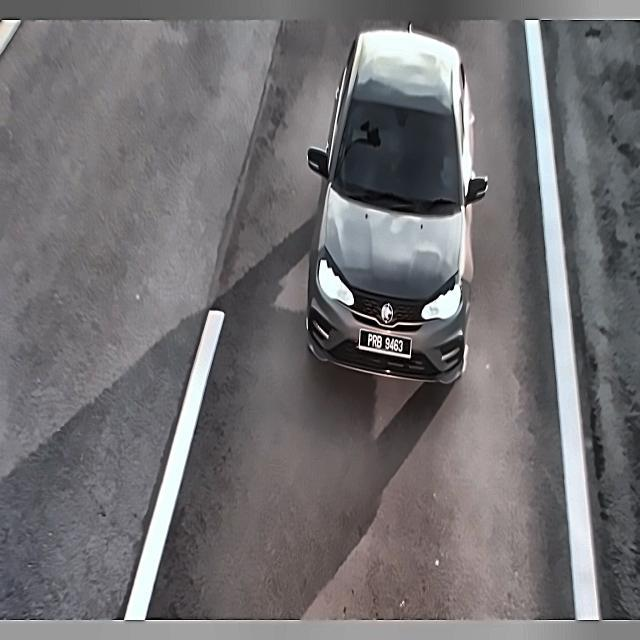car: (358, 319, 416, 365)
